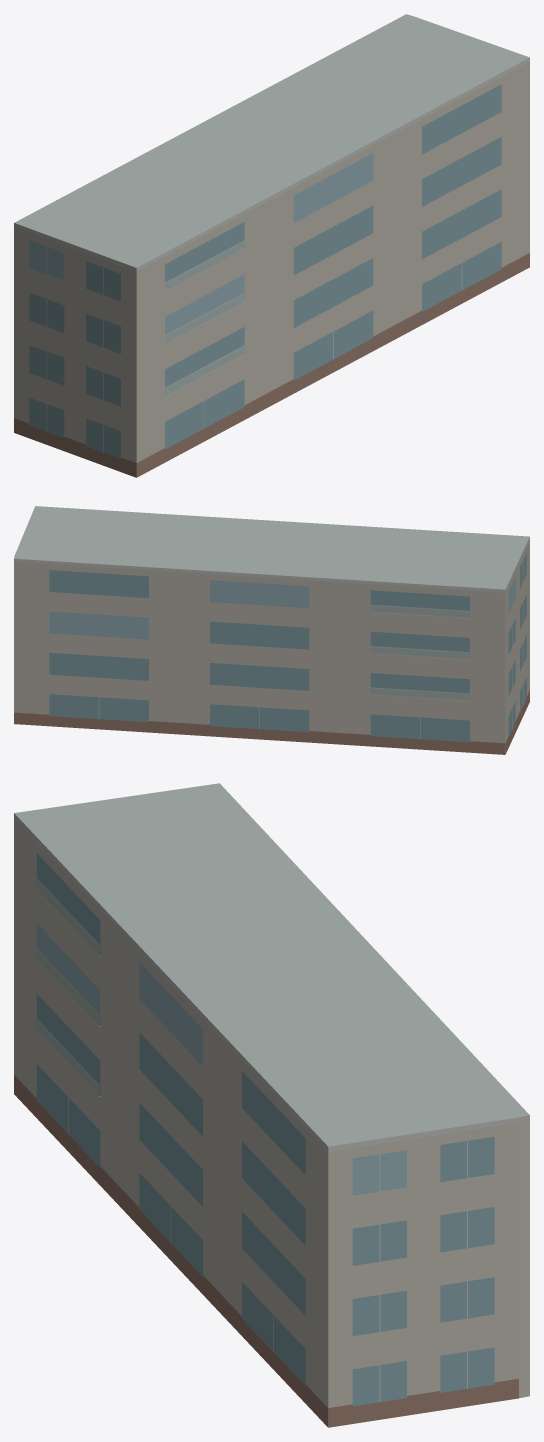
The model's file is survey-upis-32832087.glb.
The picture shows the model from 3 angles, top to bottom: view 1: azimuth 30°, elevation 25°; view 2: azimuth 150°, elevation 25°; view 3: azimuth 270°, elevation 25°; orthographic projection. The views are drawn at different scales.
Visible parts, largest first — view 1: survey-upis-32832087.tmp; view 2: survey-upis-32832087.tmp; view 3: survey-upis-32832087.tmp.
Part boxes in pixels (x1,y1,x2,y2): survey-upis-32832087.tmp: [14, 14, 529, 477]; survey-upis-32832087.tmp: [14, 506, 529, 754]; survey-upis-32832087.tmp: [14, 783, 529, 1427].
Size of the model in its own units: 36.35 by 13.1 by 21.8.
